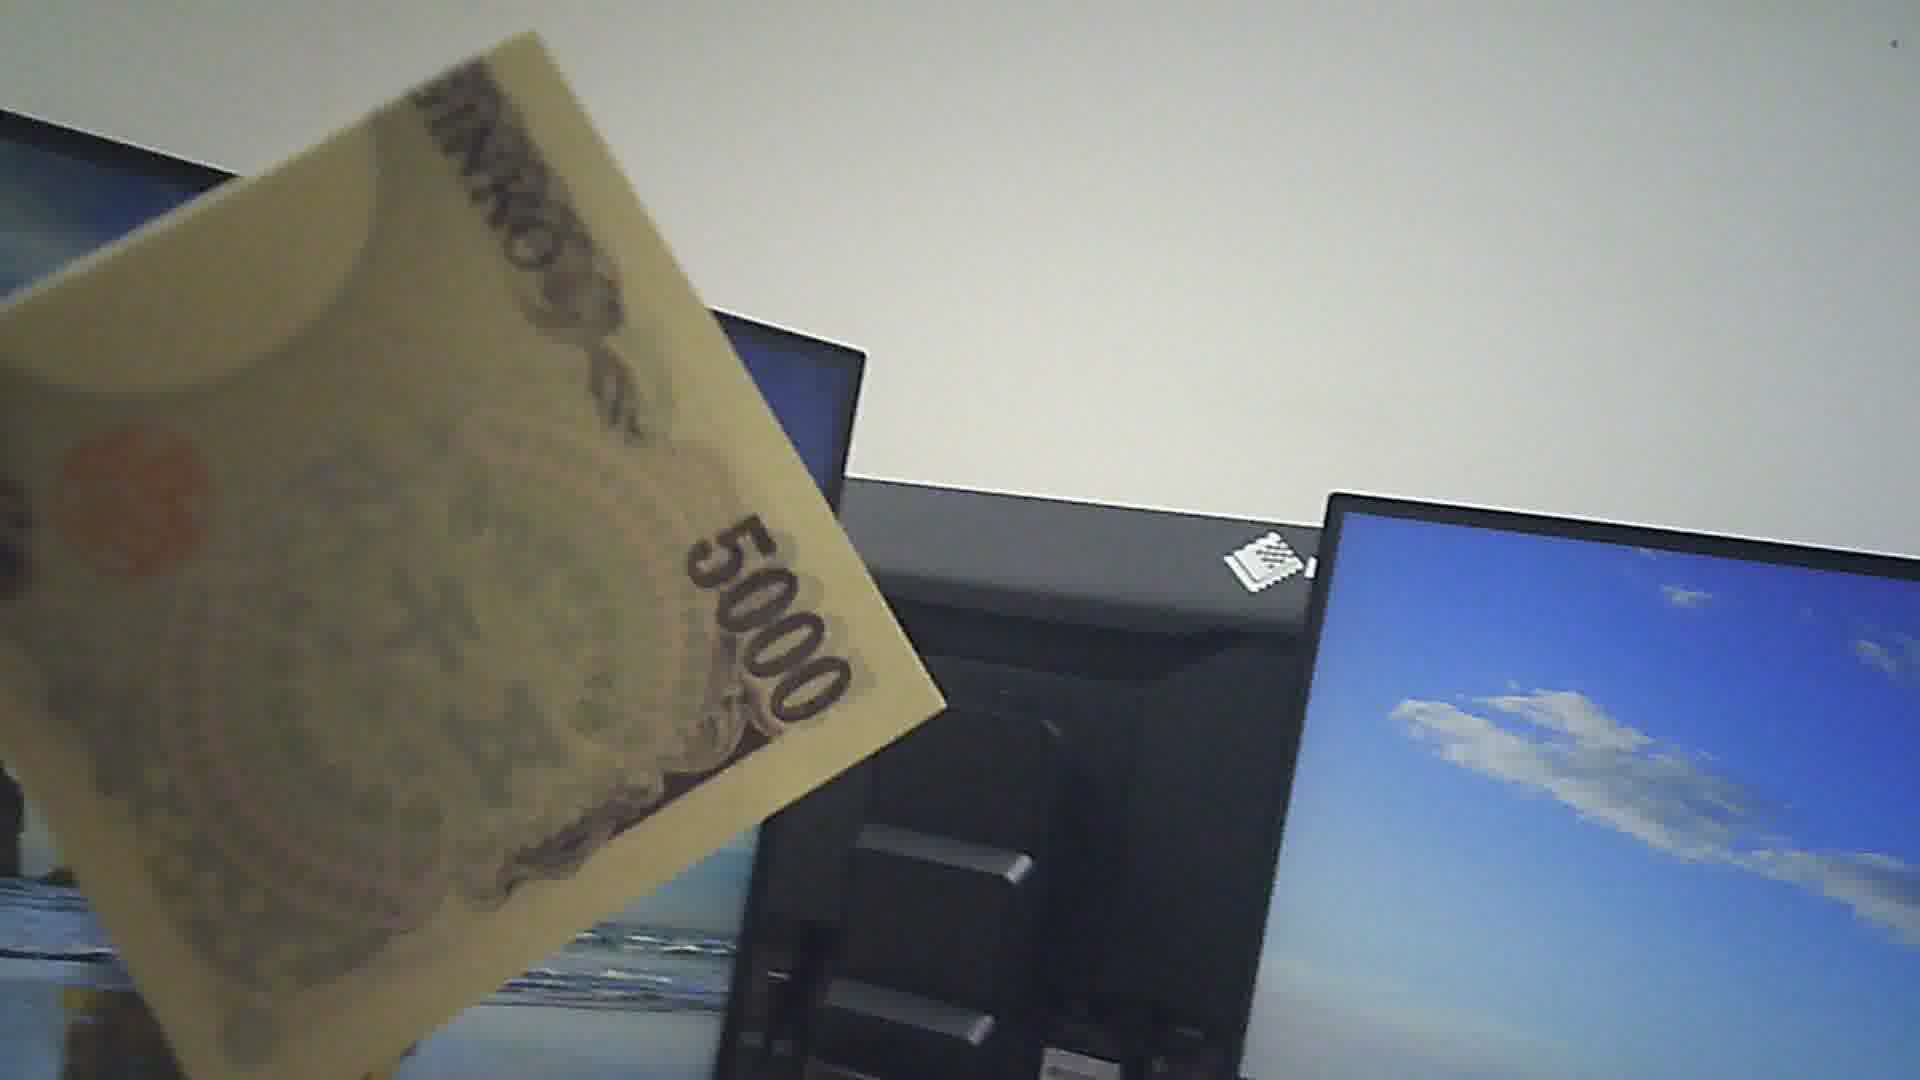5,000 Yen: (7, 17, 975, 1056)
